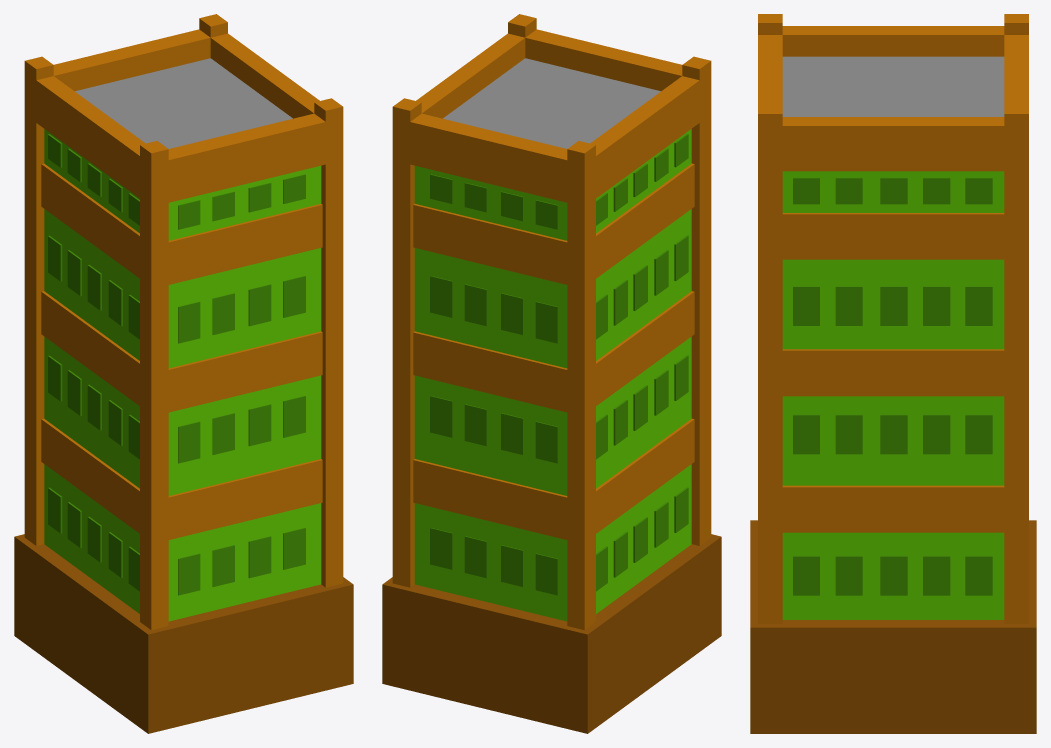
The picture shows the model from 3 angles, left to right: view 1: azimuth 30°, elevation 25°; view 2: azimuth 150°, elevation 25°; view 3: azimuth 270°, elevation 25°; orthographic projection. The views are drawn at different scales.
Parts seen in each view (by area): view 1: pCube1, pCube38, pCube9 (×2), pCube19 (×2), pCube14 (×2), pCube10 (×2), pCube8 (×2), pCube15 (×2), pCube20 (×2), pCube18 (×2), pCube13 (×2), pCube16 (+9 smaller); view 2: pCube1, pCube38, pCube30, pCube24, pCube28, pCube36, pCube22, pCube26, pCube29, pCube23, pCube25, pCube27 (+18 smaller); view 3: pCube1, pCube38, pCube12, pCube14, pCube17, pCube18, pCube19, pCube20, pCube13, pCube15, pCube7, pCube8 (+10 smaller).
Boxes of the visible parts, bbox=[...] form: pCube1: bbox=[24, 14, 343, 630]; pCube38: bbox=[14, 534, 353, 733]; pCube9 (×2): bbox=[87, 265, 271, 326]; pCube19 (×2): bbox=[87, 516, 271, 578]; pCube14 (×2): bbox=[87, 384, 271, 446]; pCube10 (×2): bbox=[108, 280, 234, 334]; pCube8 (×2): bbox=[67, 250, 305, 317]; pCube15 (×2): bbox=[108, 400, 234, 454]; pCube20 (×2): bbox=[108, 532, 234, 586]; pCube18 (×2): bbox=[67, 502, 305, 569]; pCube13 (×2): bbox=[67, 370, 305, 437]; pCube16: bbox=[178, 421, 200, 463]; pCube1: bbox=[392, 14, 711, 630]; pCube38: bbox=[382, 534, 721, 733]; pCube30: bbox=[464, 284, 487, 326]; pCube24: bbox=[464, 536, 487, 578]; pCube28: bbox=[464, 404, 487, 446]; pCube36: bbox=[535, 301, 557, 343]; pCube22: bbox=[535, 553, 557, 595]; pCube26: bbox=[535, 421, 557, 463]; pCube29: bbox=[501, 293, 523, 334]; pCube23: bbox=[501, 545, 523, 586]; pCube25: bbox=[430, 528, 452, 569]; pCube27: bbox=[501, 413, 523, 454]; pCube1: bbox=[758, 14, 1028, 623]; pCube38: bbox=[750, 520, 1036, 733]; pCube12: bbox=[965, 414, 992, 454]; pCube14: bbox=[880, 414, 907, 454]; pCube17: bbox=[965, 555, 992, 595]; pCube18: bbox=[923, 555, 950, 595]; pCube19: bbox=[880, 555, 907, 595]; pCube20: bbox=[835, 555, 862, 595]; pCube13: bbox=[923, 414, 950, 454]; pCube15: bbox=[835, 414, 862, 454]; pCube7: bbox=[965, 286, 992, 325]; pCube8: bbox=[923, 286, 950, 325].
Size of the model in its own units: 122 by 327 by 138.
